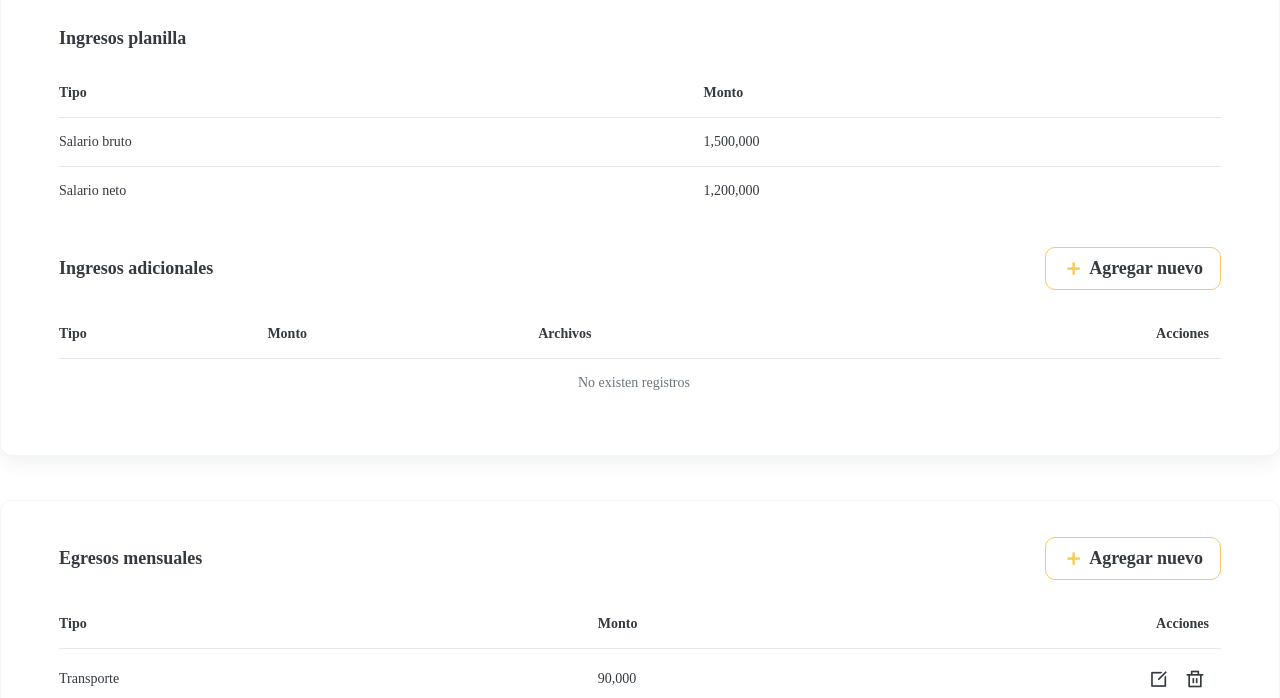
it: IncomeExpenses (paso 3) › egresos › edits and removes an expense
This screenshot has width=1280, height=698.
Click the button named "Editar egreso Transporte". click: (1159, 679)
box: [1145, 665, 1173, 693]
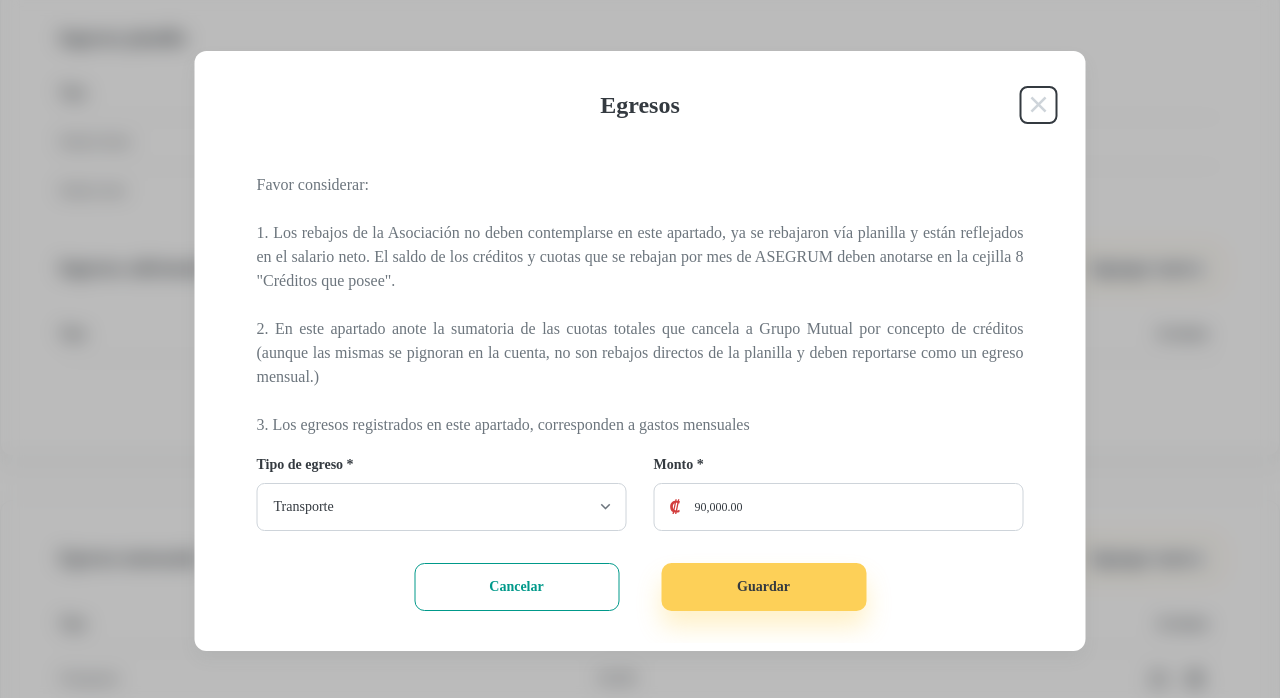
Expected: the field labelled "Monto *" holds "90,000.00"
Replace the text in the field labelled "Monto *" with "9500000". click: (838, 507)
box: [654, 483, 1024, 531]
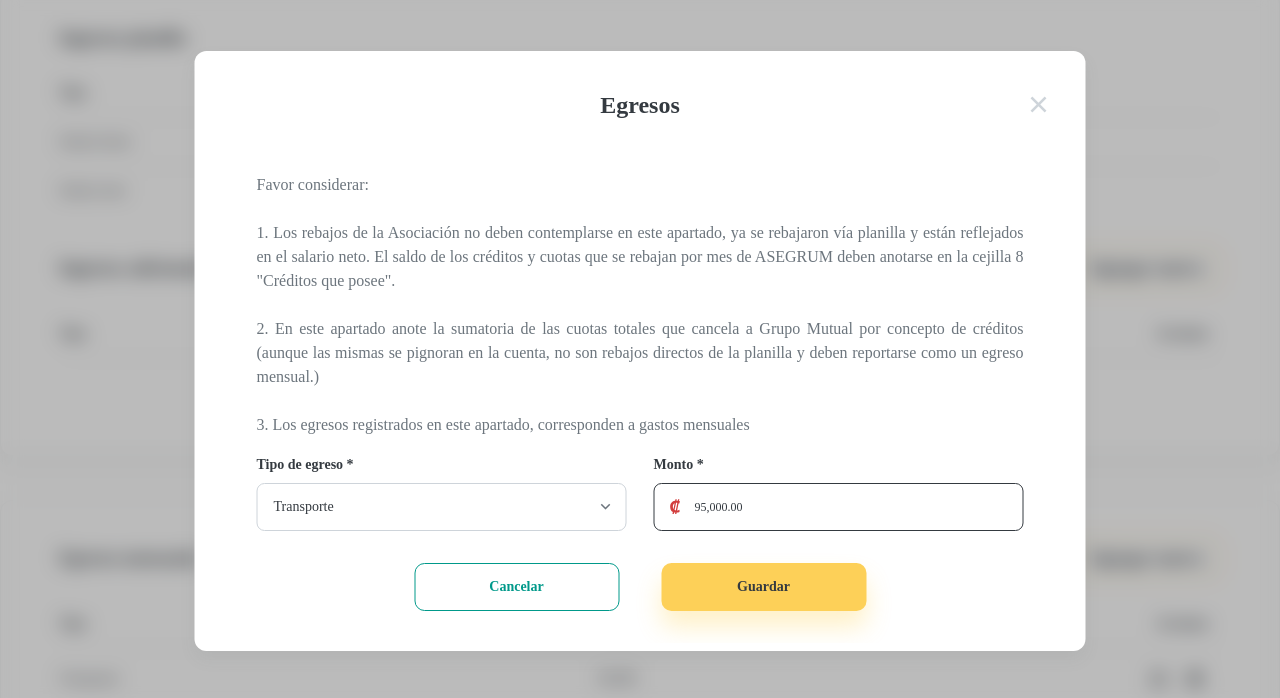
Click the button "Guardar". click: (764, 587)
box: [661, 563, 866, 611]
(page scrolled)
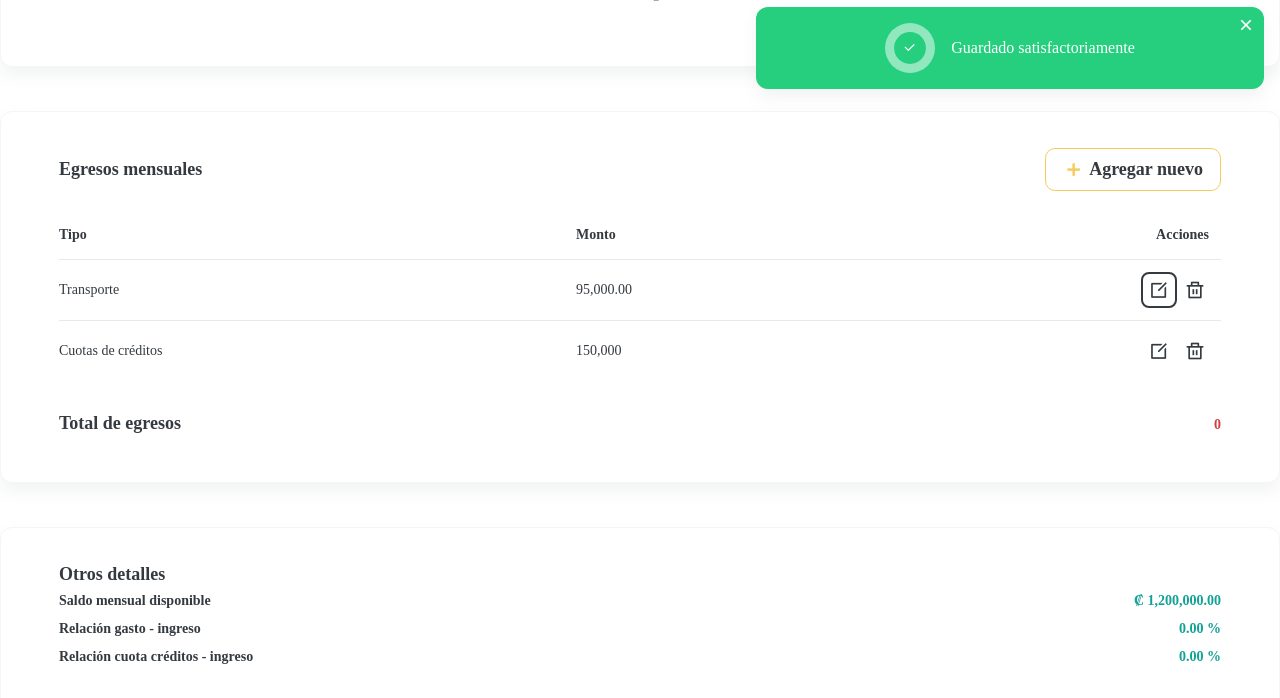
Expected: the text "95,000.00" is shown, [576, 260, 881, 320]
Click the button named "Eliminar egreso Cuotas de créditos". click: (1195, 351)
box: [1181, 337, 1209, 365]
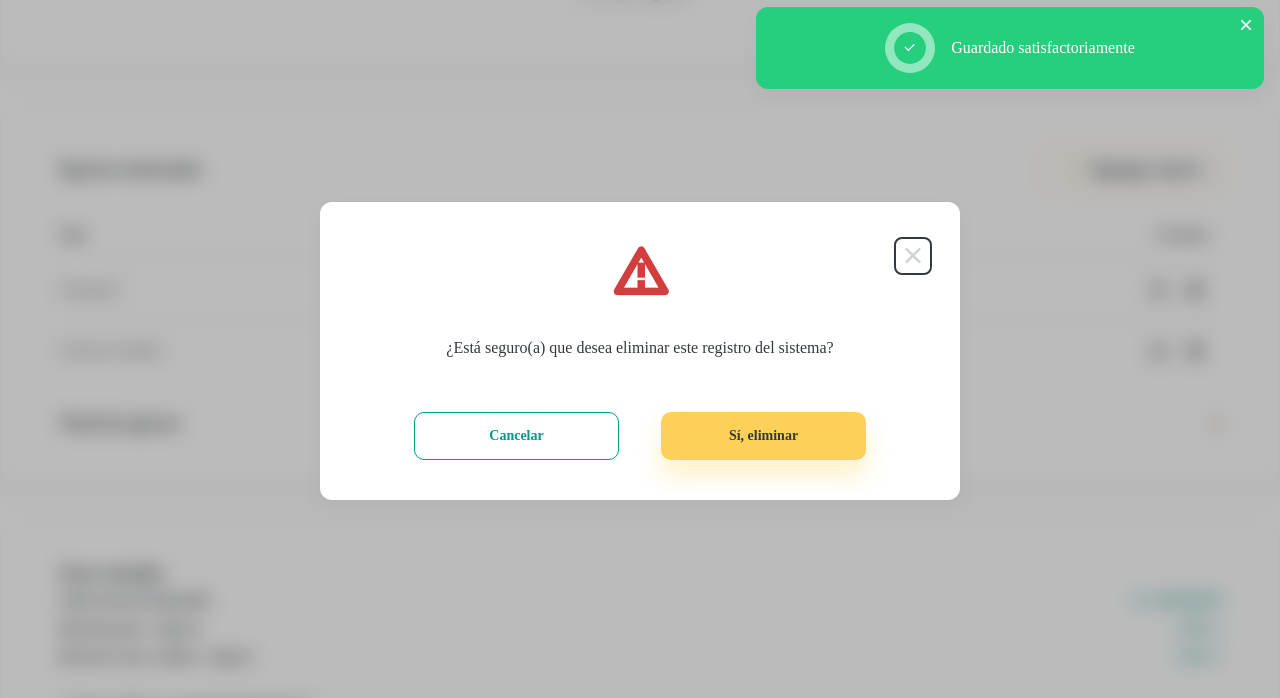
Click the button "Sí, eliminar". click: (764, 436)
box: [661, 412, 866, 460]
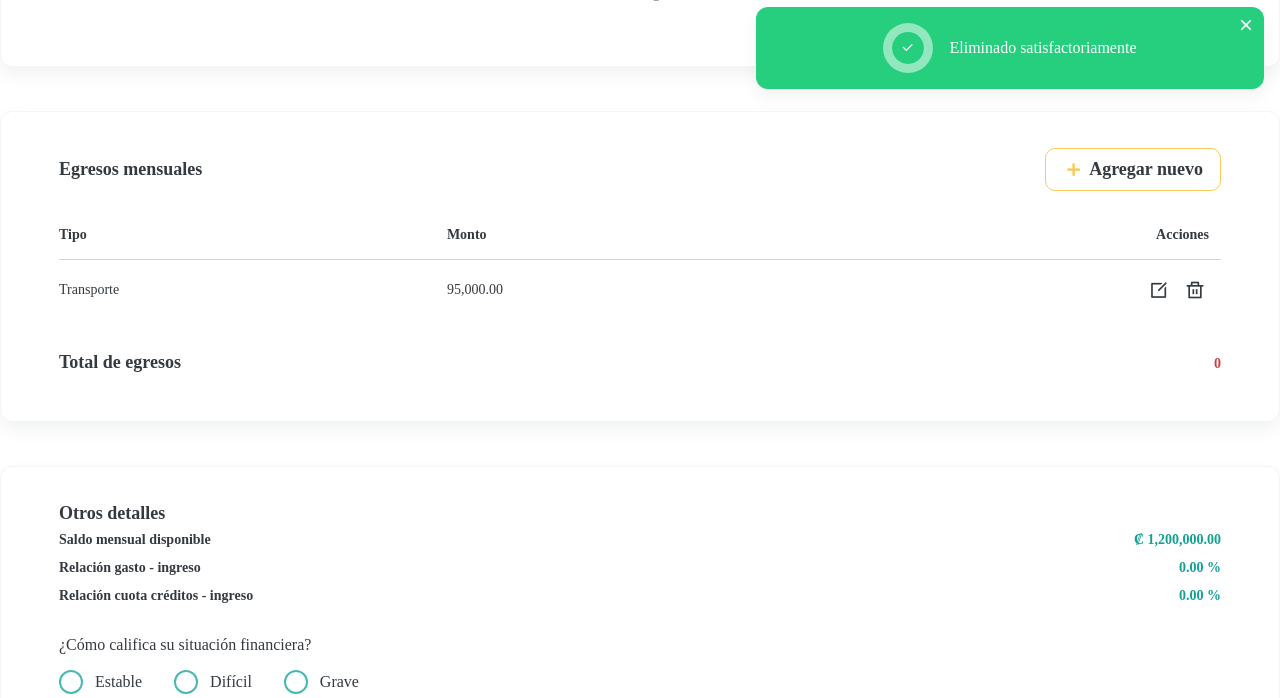
Expected: the text "150,000" is gone
